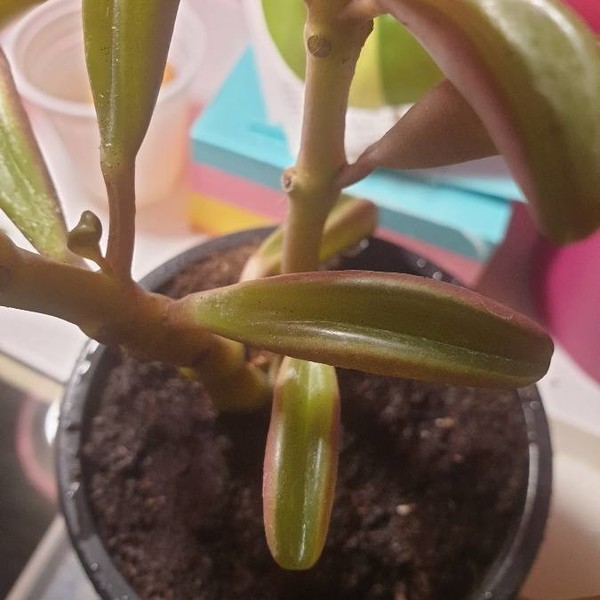obstacle: (7, 22, 536, 575)
